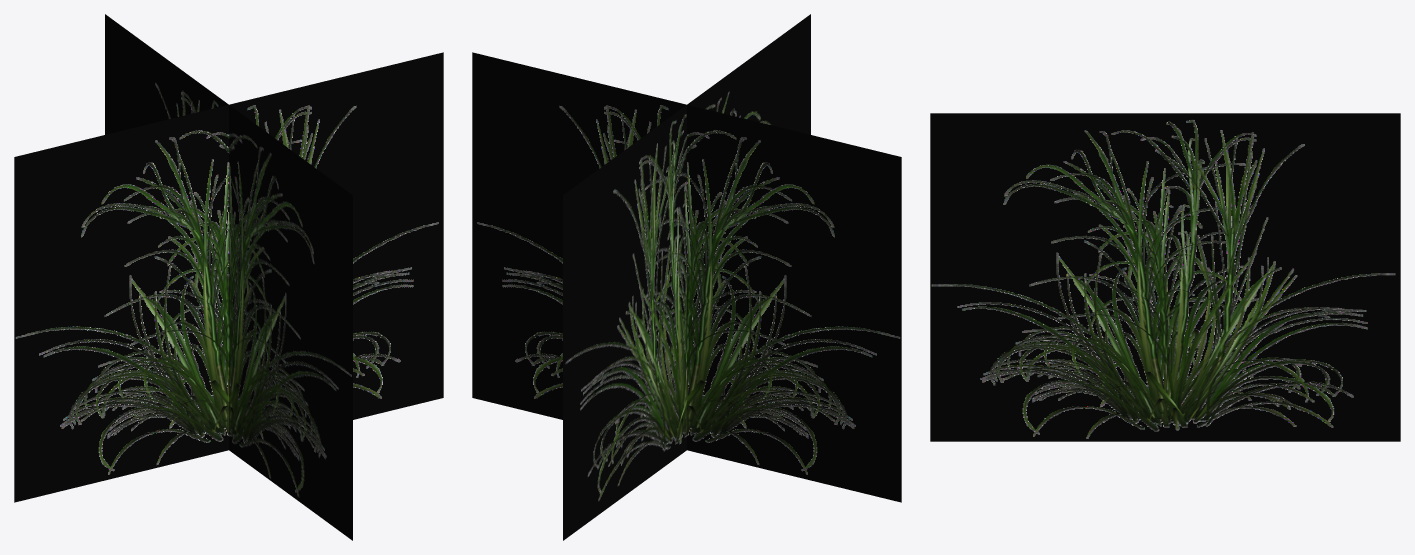
The model's file is bush6.glb.
The picture shows the model from 3 angles, left to right: view 1: azimuth 30°, elevation 25°; view 2: azimuth 150°, elevation 25°; view 3: azimuth 270°, elevation 25°; orthographic projection. The views are drawn at different scales.
Visible parts, largest first — view 1: bush6; view 2: bush6; view 3: bush6.
Part boxes in pixels (<box>): bush6: <box>14,14,443,540</box>; bush6: <box>472,14,901,540</box>; bush6: <box>930,113,1400,441</box>.
Size of the model in its own units: 0.2877 by 0.2213 by 0.2877.
Materials: 1 (1 with a texture image).
